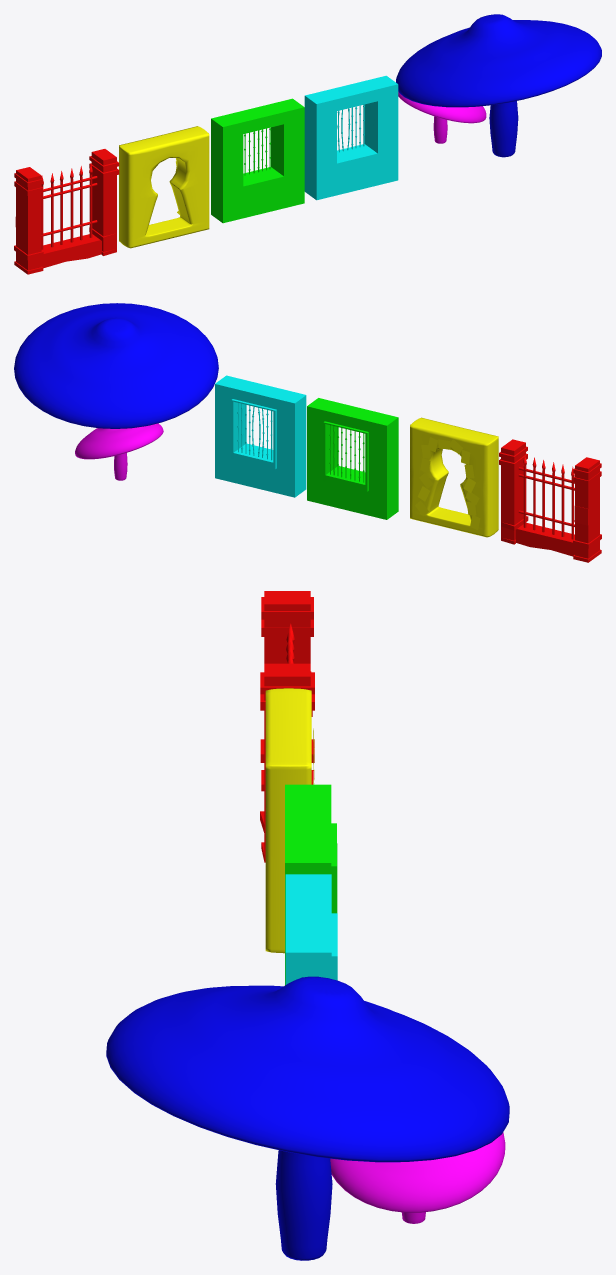
Rendered from papinta.fbx.
3 views of the same model, one above another, from view 1: azimuth 30°, elevation 25°; view 2: azimuth 150°, elevation 25°; view 3: azimuth 270°, elevation 25° (orthographic). The views are drawn at different scales.
Parts seen in each view (by area): view 1: seton, pared_rejas2, pared_rejas, cartas9, pCube8, setilla; view 2: seton, pared_rejas, pared_rejas2, cartas9, pCube8, setilla; view 3: seton, cartas9, setilla, pCube8, pared_rejas2, pared_rejas.
Part boxes in pixels (left/top/right/bottom): seton: left=396, top=14, right=601, bottom=157; pared_rejas2: left=304, top=75, right=398, bottom=200; pared_rejas: left=211, top=98, right=304, bottom=223; cartas9: left=119, top=126, right=209, bottom=248; pCube8: left=14, top=149, right=119, bottom=274; setilla: left=398, top=91, right=486, bottom=143; seton: left=14, top=303, right=218, bottom=428; pared_rejas: left=307, top=398, right=398, bottom=519; pared_rejas2: left=215, top=375, right=306, bottom=497; cartas9: left=410, top=417, right=498, bottom=537; pCube8: left=499, top=439, right=601, bottom=562; setilla: left=75, top=423, right=163, bottom=480; seton: left=106, top=976, right=509, bottom=1260; cartas9: left=265, top=688, right=314, bottom=953; setilla: left=330, top=1132, right=505, bottom=1223; pCube8: left=260, top=591, right=314, bottom=862; pared_rejas2: left=285, top=874, right=337, bottom=984; pared_rejas: left=285, top=784, right=337, bottom=985.
Bounding box in the file's own units: 28.07 × 6.3 × 8.73.
